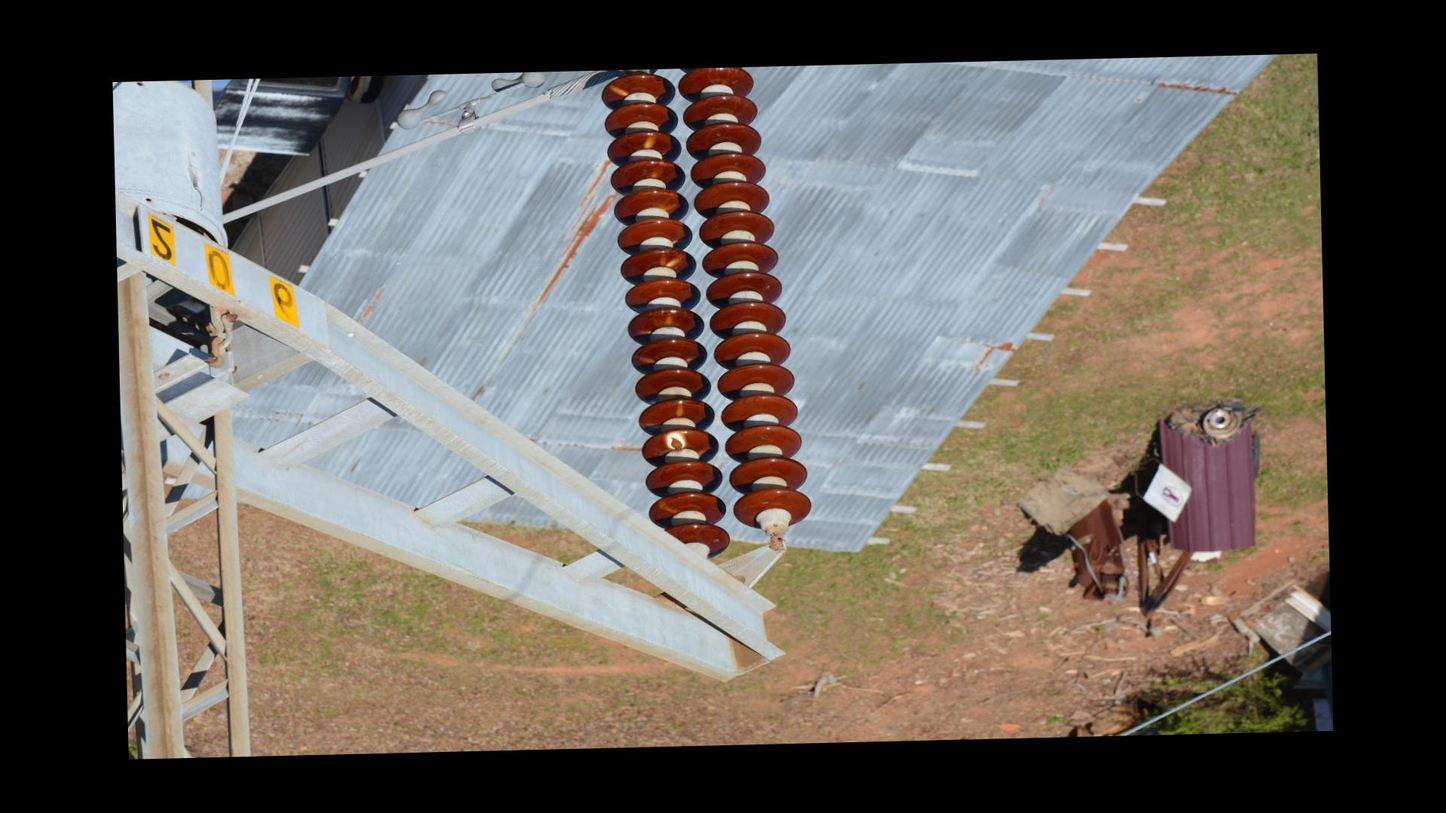damper: (393, 72, 553, 139)
